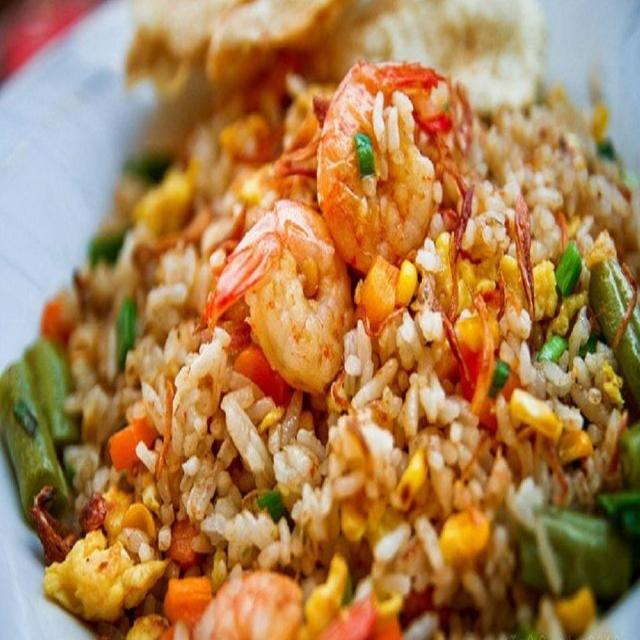Nasi Goreng: (8, 52, 636, 635)
